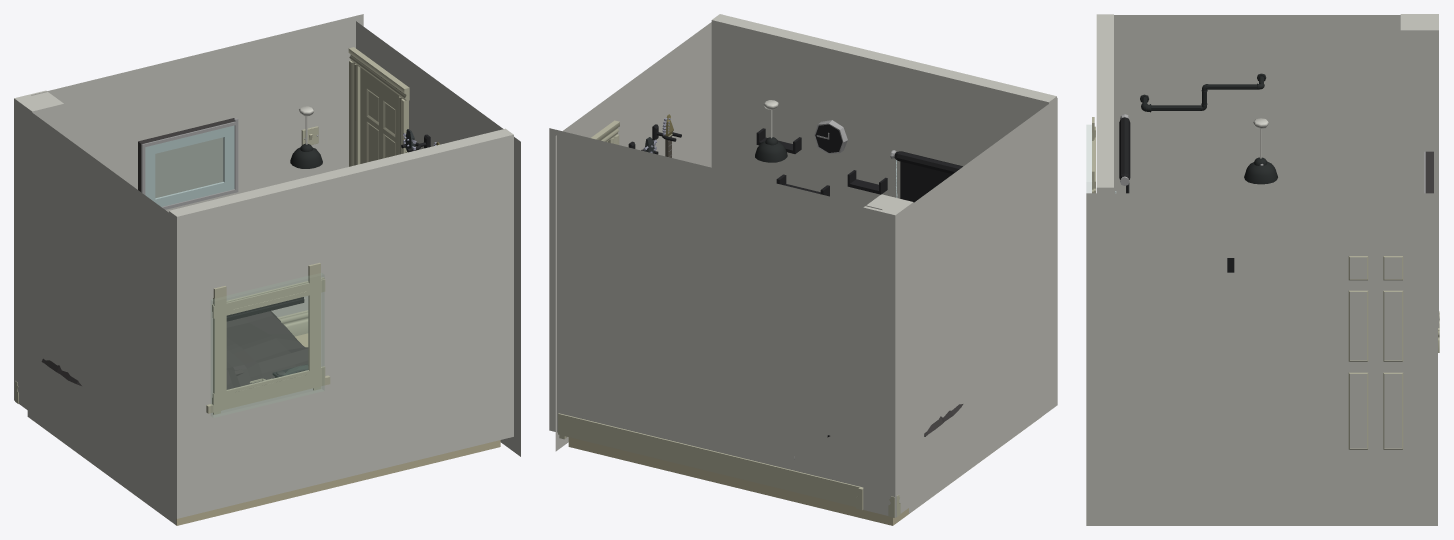
Rendered from bedroom 1.fbx.
The picture shows the model from 3 angles, left to right: view 1: azimuth 30°, elevation 25°; view 2: azimuth 150°, elevation 25°; view 3: azimuth 270°, elevation 25°; orthographic projection. The views are drawn at different scales.
Visible parts, largest first — view 1: pCube4, pPlane4, pPlane5, pCube64, pPlane6, polySurface2, polySurface19, pPlane2, pCube112, pCube15, pCube54, pCube55 (+7 smaller); view 2: pPlane5, pPlane4, pCube4, polySurface2, pPlane6, pCube12, pCube15, pCube45, pCube41, pCube51, pCube47; view 3: pPlane6, pPlane4, polySurface2, pCube4, pCube112, pCube71, pCube51, pCube47.
Part boxes in pixels (x1,y1,x2,y2): pCube4: [169, 128, 513, 518]; pPlane4: [27, 113, 176, 524]; pPlane5: [31, 14, 363, 317]; pCube64: [211, 273, 324, 417]; pPlane6: [356, 21, 520, 456]; polySurface2: [14, 90, 64, 413]; polySurface19: [138, 118, 234, 206]; pPlane2: [226, 311, 308, 389]; pCube112: [360, 68, 398, 163]; pCube15: [31, 333, 500, 525]; pCube54: [212, 366, 325, 406]; pCube55: [212, 279, 325, 318]; pPlane5: [549, 128, 882, 487]; pPlane4: [909, 98, 1057, 513]; pCube4: [711, 14, 1056, 205]; polySurface2: [863, 194, 913, 517]; pPlane6: [555, 22, 711, 451]; pCube12: [558, 413, 900, 516]; pCube15: [568, 419, 1038, 525]; pCube45: [900, 161, 952, 202]; pCube41: [814, 120, 847, 153]; pCube51: [890, 150, 962, 174]; pCube47: [755, 137, 787, 162]; pPlane6: [1086, 193, 1437, 525]; pPlane4: [1114, 15, 1400, 193]; polySurface2: [1400, 14, 1438, 327]; pCube4: [1096, 14, 1113, 193]; pCube112: [1348, 256, 1403, 449]; pCube71: [1140, 73, 1266, 110]; pCube51: [1119, 114, 1130, 185]; pCube47: [1244, 157, 1277, 184].
Size of the model in its own units: 12.37 by 10.82 by 10.25.
